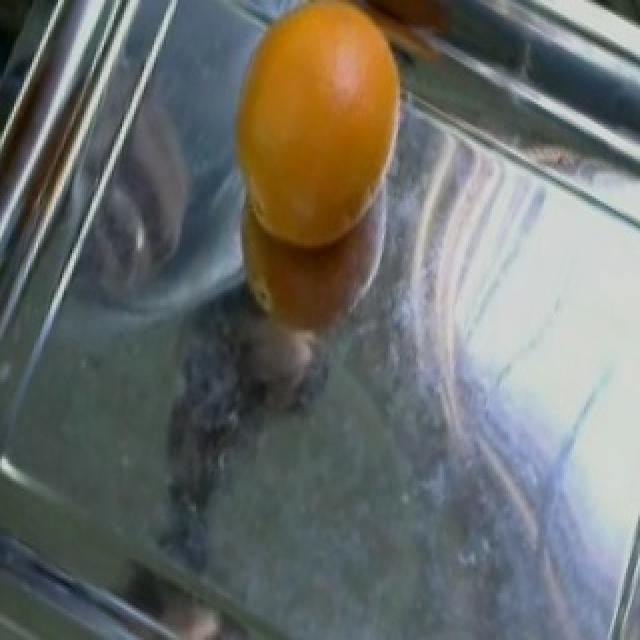Fruit: (210, 0, 430, 270)
